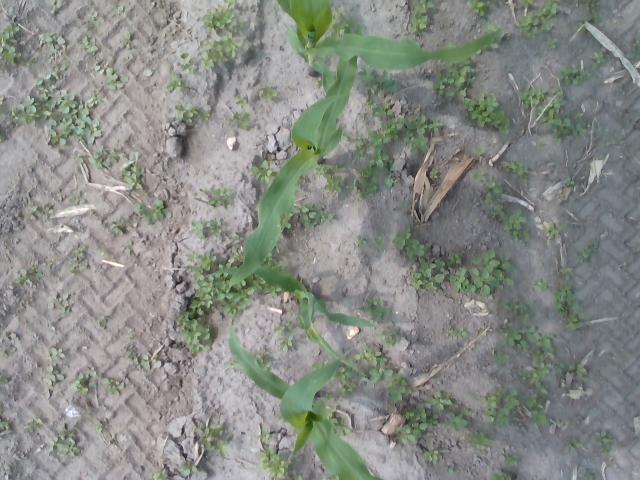Maize: (222, 18, 361, 291), (228, 309, 390, 480), (276, 0, 507, 96), (204, 264, 378, 380)
Weeds: (10, 86, 104, 146), (186, 250, 255, 316), (462, 92, 511, 136), (381, 114, 430, 155), (518, 84, 566, 122), (396, 404, 439, 445), (432, 59, 475, 98), (517, 0, 560, 38), (552, 282, 586, 330), (472, 249, 516, 286), (478, 388, 518, 428), (174, 313, 212, 355), (354, 344, 393, 384), (448, 265, 498, 296), (356, 62, 399, 98), (200, 36, 243, 70), (194, 422, 233, 457), (513, 358, 550, 394), (408, 256, 446, 290), (392, 226, 426, 262), (495, 321, 531, 355), (522, 322, 556, 358), (522, 390, 552, 430), (257, 446, 292, 480), (93, 60, 128, 92), (291, 202, 333, 228), (47, 428, 81, 459), (321, 403, 352, 437), (134, 198, 174, 224), (495, 298, 535, 324), (200, 4, 233, 35), (118, 151, 144, 190), (0, 20, 22, 66), (481, 178, 506, 218), (504, 208, 532, 243), (348, 166, 378, 198), (547, 118, 587, 142), (332, 362, 358, 398), (364, 130, 388, 168), (258, 244, 289, 273), (328, 3, 357, 34), (410, 0, 434, 35), (387, 372, 412, 404), (362, 296, 392, 322), (87, 144, 118, 169), (68, 370, 98, 395), (34, 63, 67, 85), (500, 160, 530, 184), (558, 66, 594, 86), (189, 219, 223, 239), (464, 430, 493, 453), (252, 274, 282, 296), (252, 160, 278, 185), (574, 10, 601, 34), (374, 327, 402, 349), (38, 30, 66, 52), (226, 109, 253, 131), (474, 35, 502, 54), (13, 268, 42, 286), (366, 98, 394, 116), (174, 102, 198, 123), (68, 246, 86, 274), (444, 411, 468, 432), (207, 186, 232, 206), (252, 347, 272, 372), (174, 52, 196, 74), (25, 205, 54, 221), (543, 220, 566, 240), (595, 430, 614, 454), (101, 376, 125, 395), (382, 158, 396, 190), (166, 76, 190, 94), (576, 245, 598, 264), (428, 391, 450, 410), (44, 365, 64, 385), (422, 446, 442, 466), (322, 174, 343, 193), (54, 294, 70, 318), (568, 362, 588, 381), (353, 134, 367, 160), (278, 212, 292, 238), (626, 32, 640, 58), (314, 162, 344, 174), (78, 36, 98, 54), (486, 470, 520, 480), (468, 0, 488, 17), (273, 319, 299, 332), (491, 351, 512, 367), (174, 462, 198, 476), (278, 334, 296, 352), (138, 354, 157, 370), (260, 84, 278, 100), (87, 11, 102, 30), (231, 243, 245, 263), (23, 418, 44, 431), (446, 250, 462, 267), (427, 117, 443, 134), (228, 20, 245, 36), (45, 346, 64, 360), (592, 52, 608, 68), (257, 428, 273, 444), (292, 173, 306, 191), (572, 0, 600, 9), (110, 220, 126, 235), (532, 278, 549, 292), (126, 346, 140, 363), (566, 438, 584, 451), (447, 326, 468, 337), (122, 31, 134, 50), (198, 106, 212, 122), (482, 22, 500, 34), (68, 194, 86, 206), (223, 358, 240, 370), (22, 54, 36, 68), (310, 360, 329, 370), (354, 235, 368, 248), (558, 267, 572, 280), (235, 94, 248, 108), (372, 236, 384, 250), (552, 362, 566, 374), (504, 454, 518, 466), (471, 170, 486, 181), (0, 418, 11, 432), (606, 352, 622, 361), (548, 37, 560, 49), (152, 471, 168, 480), (94, 420, 104, 434), (48, 0, 58, 14), (72, 152, 84, 163), (112, 4, 124, 14), (562, 176, 574, 186), (444, 41, 458, 49), (274, 412, 285, 422), (324, 390, 335, 400), (474, 146, 486, 155), (398, 200, 409, 209), (0, 97, 5, 115), (428, 169, 438, 178), (123, 246, 132, 256), (0, 374, 8, 385), (537, 139, 547, 147), (232, 232, 240, 241), (575, 111, 584, 119), (524, 0, 536, 6), (224, 0, 236, 6), (341, 131, 348, 141), (316, 78, 323, 88), (1, 350, 9, 358), (358, 113, 366, 121), (100, 316, 108, 324), (47, 55, 55, 62), (448, 467, 454, 475), (0, 133, 5, 142), (296, 475, 304, 480)
